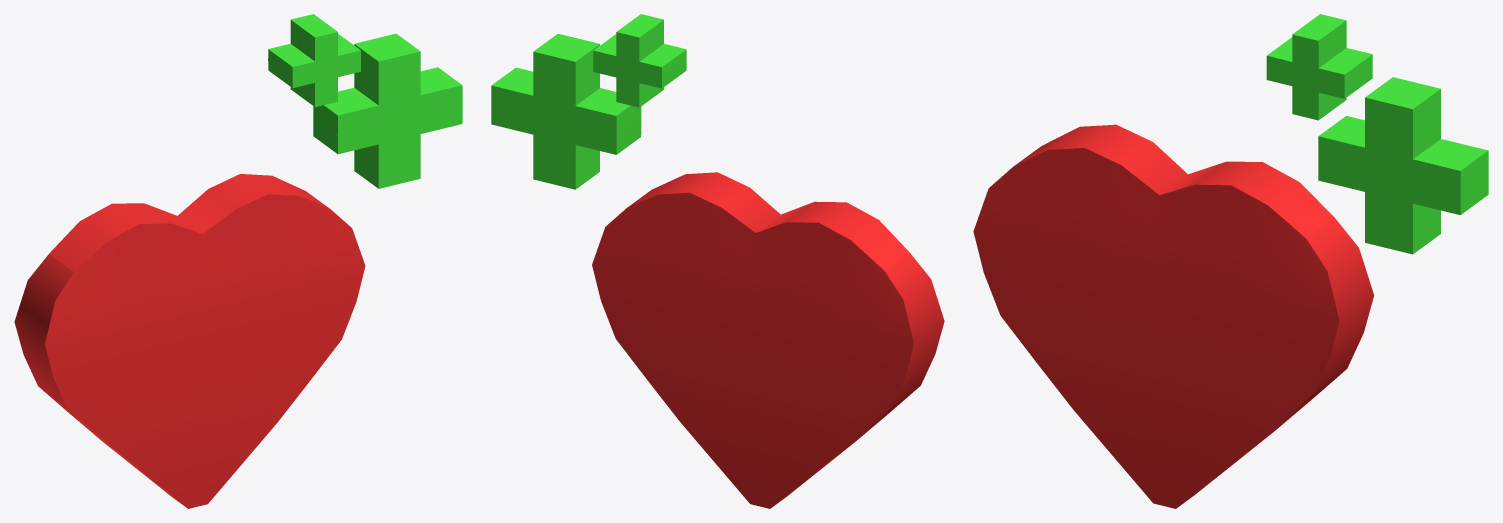
File: health_up.fbx
The picture shows the model from 3 angles, left to right: view 1: azimuth 30°, elevation 25°; view 2: azimuth 150°, elevation 25°; view 3: azimuth 330°, elevation 25°; orthographic projection. The views are drawn at different scales.
Parts seen in each view (by area): view 1: Box001; view 2: Box001; view 3: Box001.
Part boxes in pixels (x1,y1,x2,y2): Box001: [14, 14, 462, 508]; Box001: [491, 14, 944, 508]; Box001: [973, 14, 1488, 508].
Size of the model in its own units: 371 by 372 by 46.37.
Materials: 1 (1 with a texture image).
